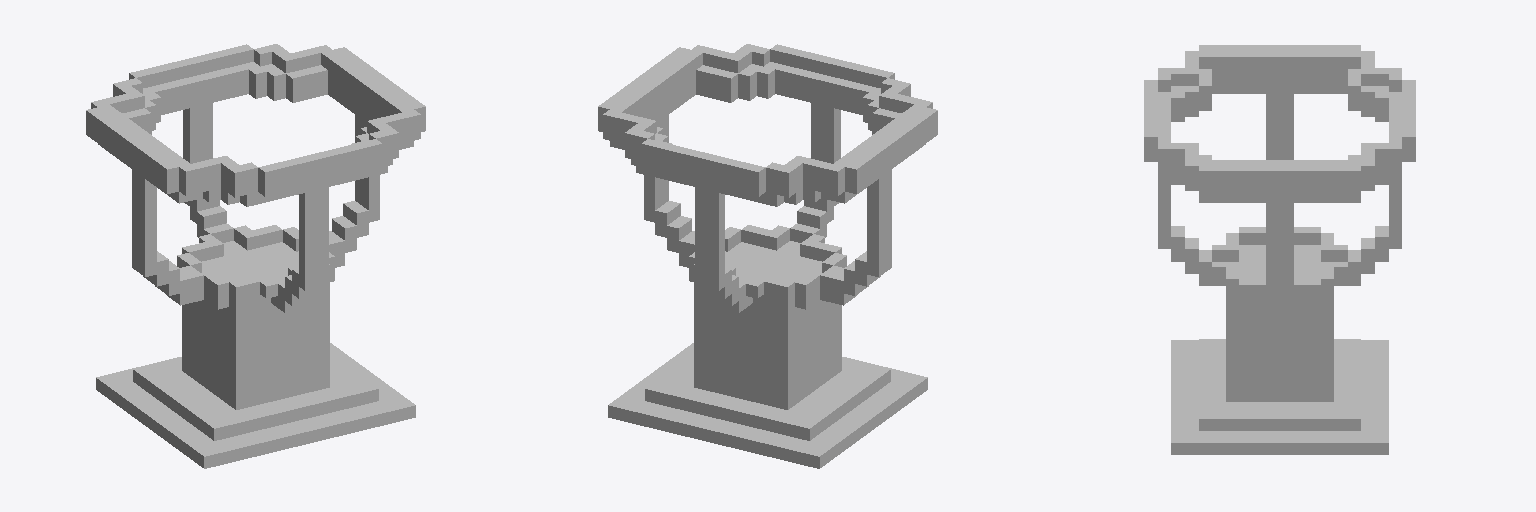
The model's file is torch.obj.
3 views of the same model, side by side, from view 1: azimuth 30°, elevation 25°; view 2: azimuth 150°, elevation 25°; view 3: azimuth 270°, elevation 25° (orthographic).
Parts seen in each view (by area): view 1: object 1; view 2: object 1; view 3: object 1.
Part boxes in pixels (bbox=[...]): object 1: bbox=[86, 44, 425, 468]; object 1: bbox=[598, 44, 937, 468]; object 1: bbox=[1144, 45, 1415, 454].
Bounding box in the file's own units: 2.2 × 2.4 × 2.